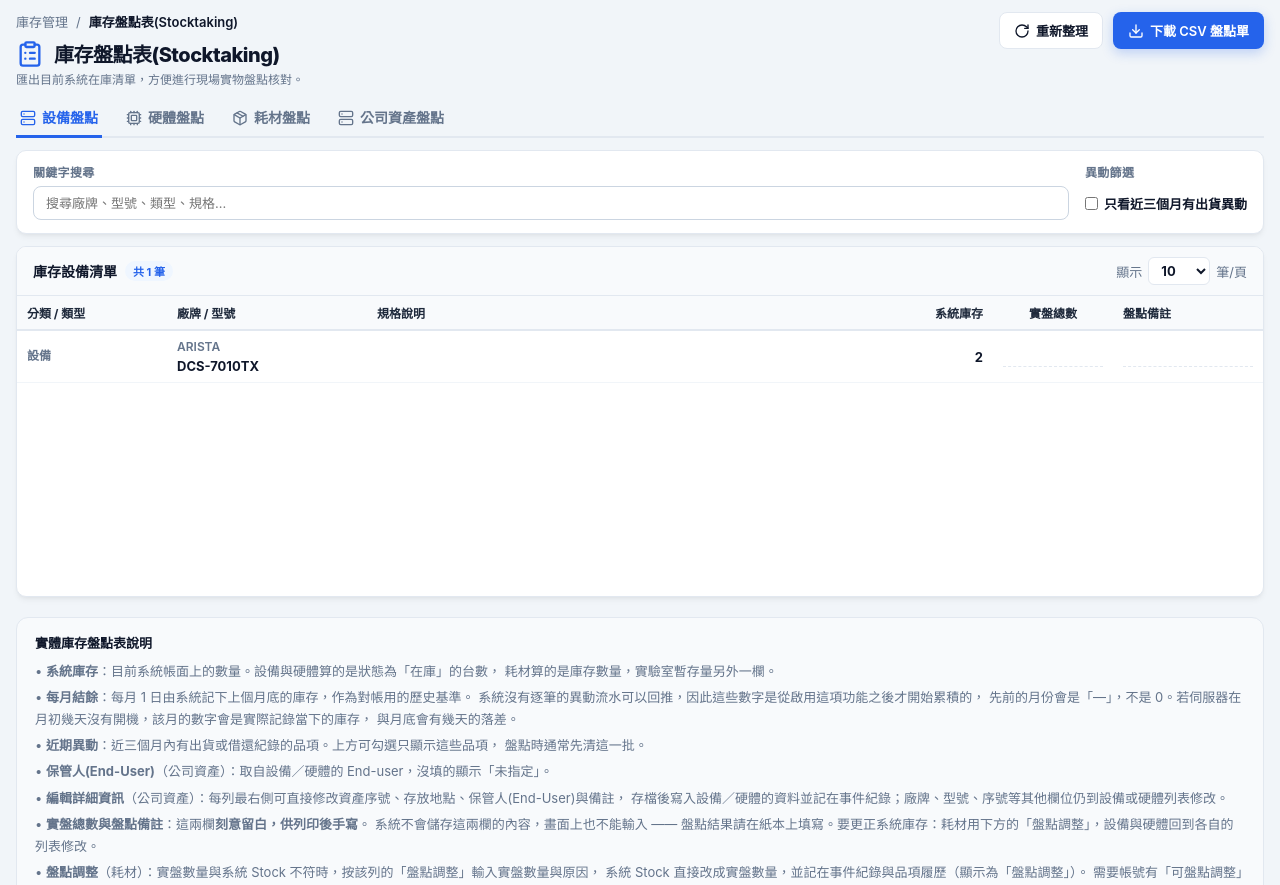
Test: 公司資產盤點：保管人 › 可以用保管人搜尋
The image size is (1280, 885).
Click the text "公司資產盤點" at (391, 118), box [338,109,444,126]
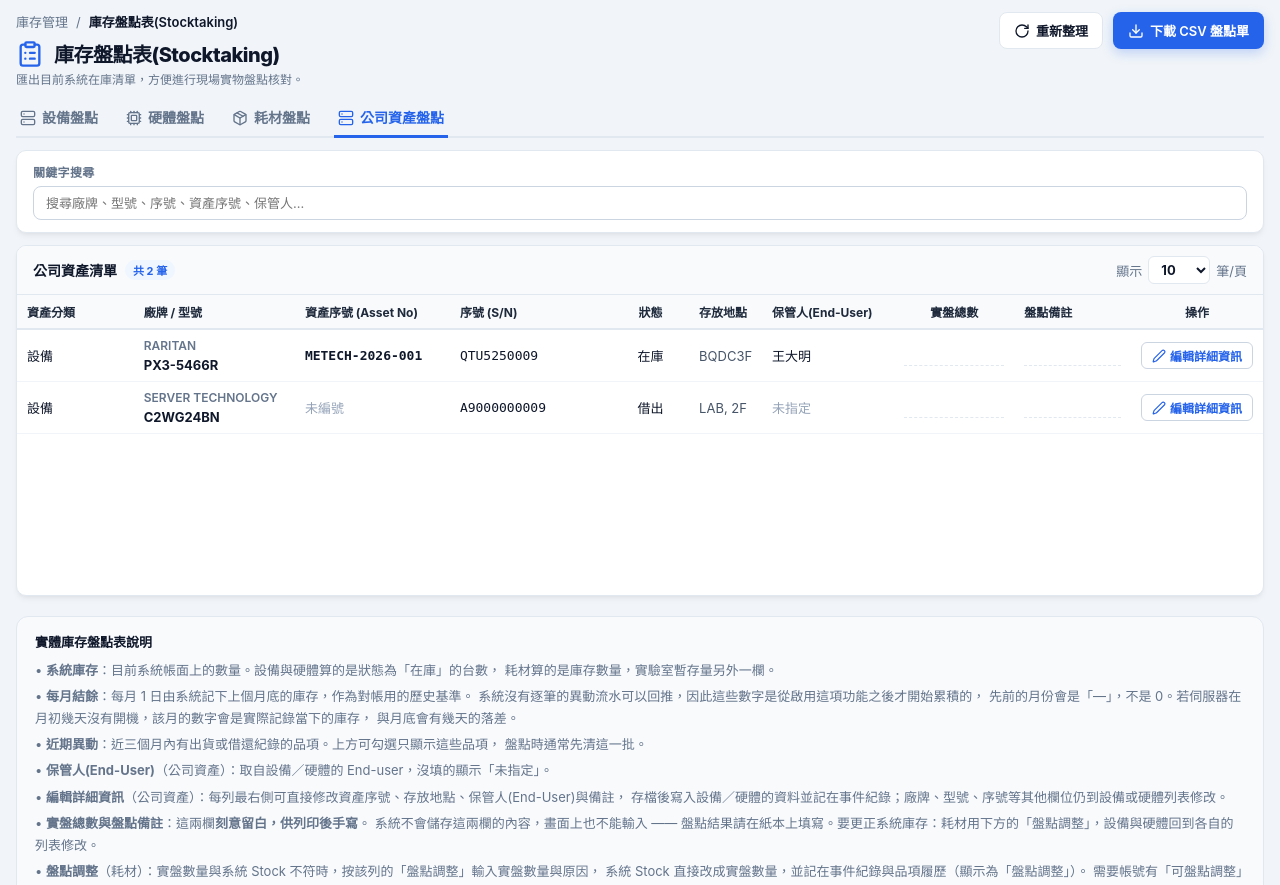
Expected: the text "QTU5250009" is shown, [450,329,612,382]
Type "王大明" into the field with placeholder "搜尋廠牌、型號、序號、資產序號、保管人..." at (640, 203), box [33,186,1247,220]
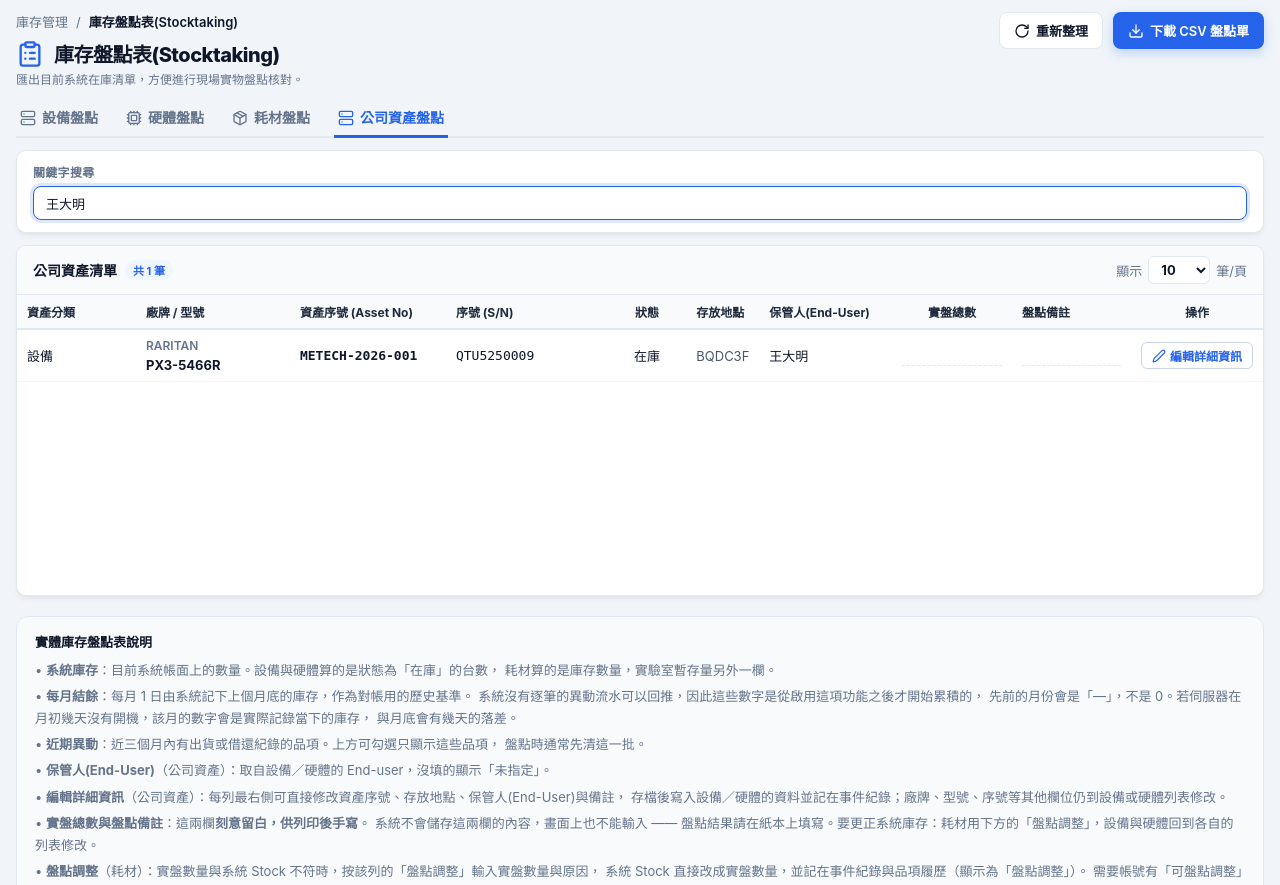
Expected: the text "QTU5250009" is shown, [446,329,608,382]
Expected: the text "A9000000009" is gone
